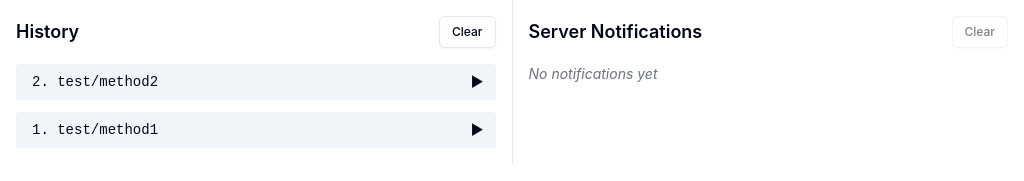
Test: HistoryAndNotifications › clears request history when Clear is clicked
Expected: the text "2. test/method2" is shown, [32,72,158,92]
Expected: the text "1. test/method1" is shown, [32,120,158,140]
Click the button "Clear" in the row of "History": (467, 32) [439,16,496,48]
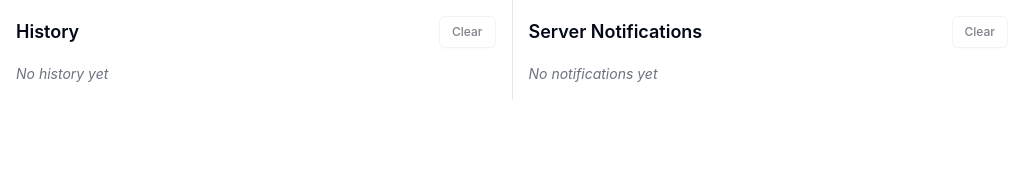
Now the text "No history yet" is shown, box [16,65,108,82]
